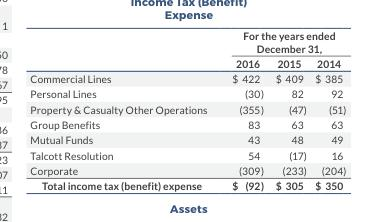table: (29, 28, 345, 191)
table column: (29, 28, 218, 191), (218, 28, 268, 191), (268, 28, 310, 191), (310, 28, 345, 191)
table column header: (29, 28, 345, 70)
table row: (29, 28, 345, 55), (29, 85, 345, 101), (29, 146, 345, 162), (29, 55, 345, 70), (29, 70, 345, 85), (29, 101, 345, 116), (29, 116, 345, 131), (29, 131, 345, 146), (29, 162, 345, 177), (29, 177, 345, 191)
table spanning cell: (218, 28, 345, 55)
